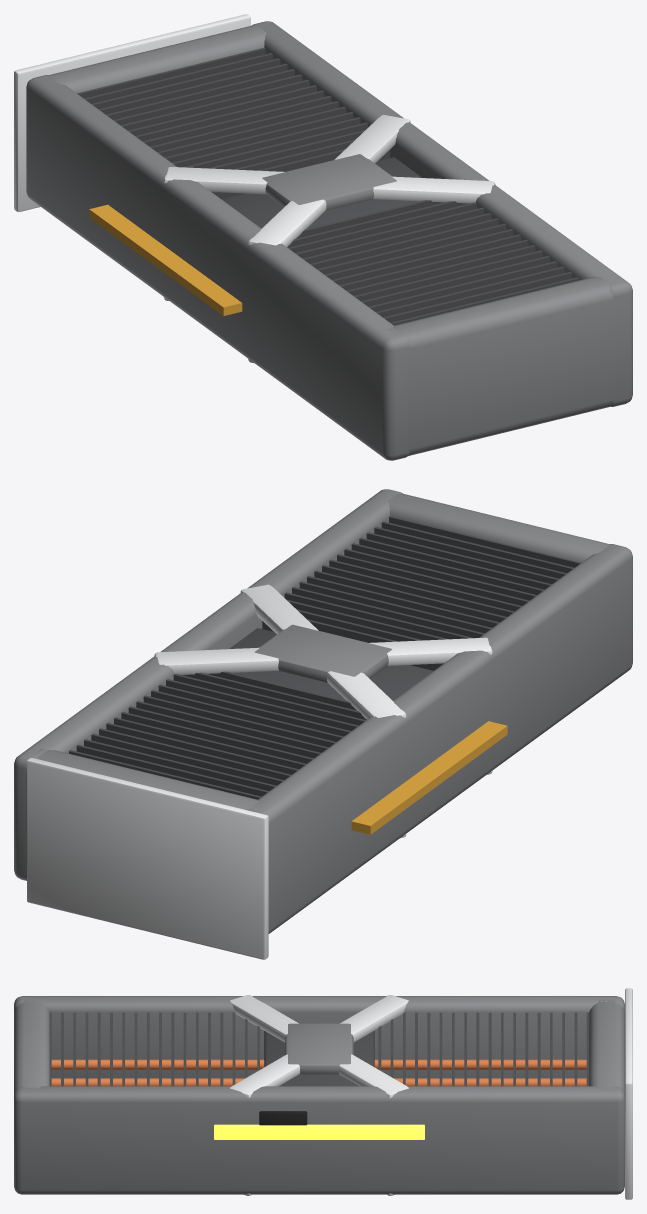
The model's file is gpu_rtx5090_fe.glb.
The picture shows the model from 3 angles, top to bottom: view 1: azimuth 30°, elevation 25°; view 2: azimuth 150°, elevation 25°; view 3: azimuth 270°, elevation 25°; orthographic projection. The views are drawn at different scales.
Visible parts, largest first — view 1: RTX5090_FE_Body; view 2: RTX5090_FE_Body; view 3: RTX5090_FE_Body, FE_SideBadge.
Boxes of the visible parts, x1=… form: RTX5090_FE_Body: x1=14, y1=14, x2=632, y2=460; RTX5090_FE_Body: x1=14, y1=489, x2=632, y2=959; RTX5090_FE_Body: x1=14, y1=988, x2=632, y2=1199; FE_SideBadge: x1=214, y1=1124, x2=424, y2=1139.
Size of the model in its own units: 1.31 by 0.644 by 3.08.
